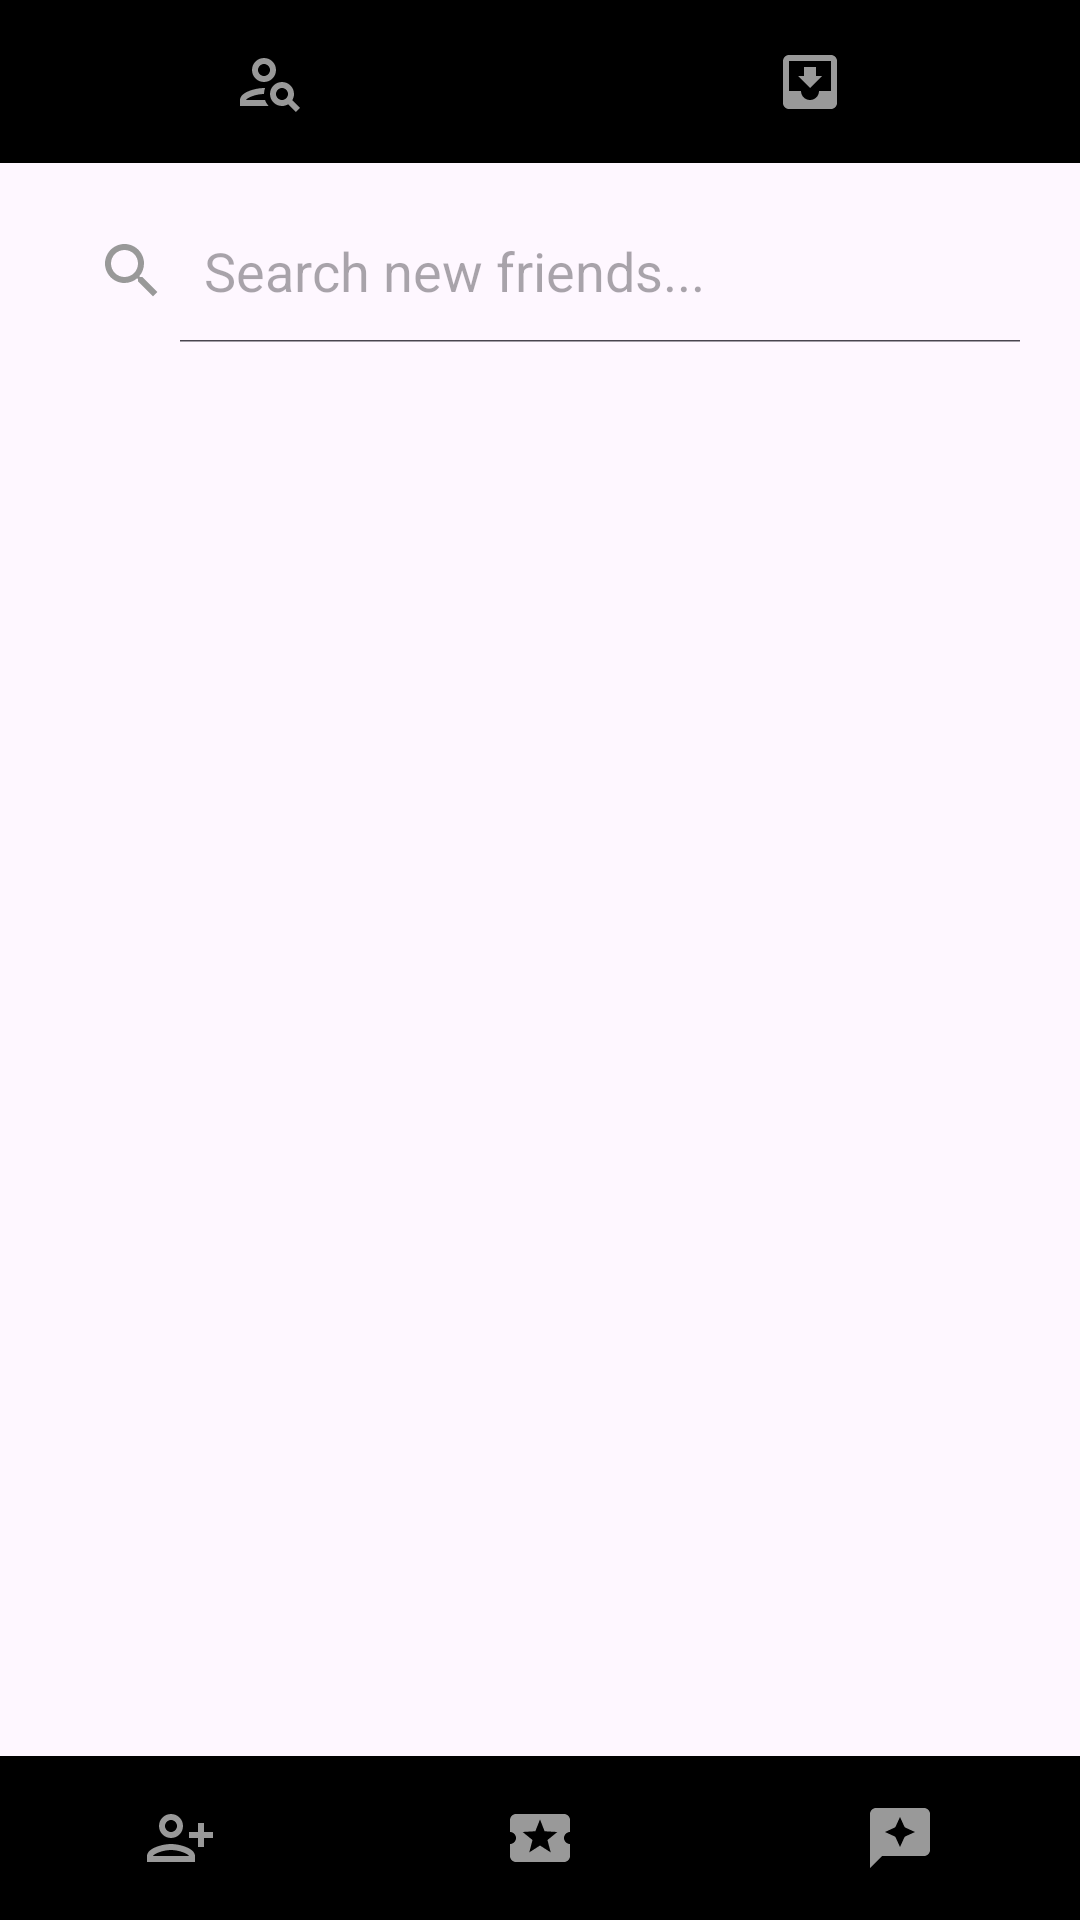

Icons on this 1080w x 1920h Android screen, each with the point to tap as point (x, y):
local activity: point (540, 1838)
person add: point (180, 1838)
reviews: point (900, 1838)
